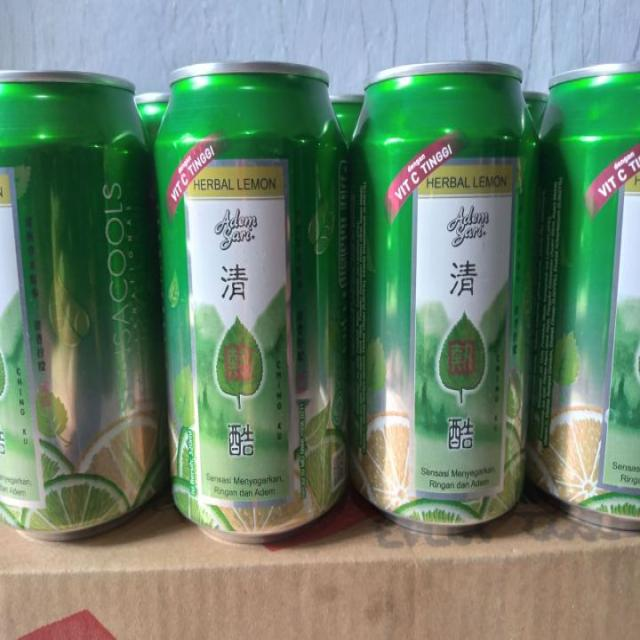ademsarikaleng: (153, 59, 349, 545), (347, 59, 538, 536), (0, 68, 168, 542), (526, 59, 639, 534)
